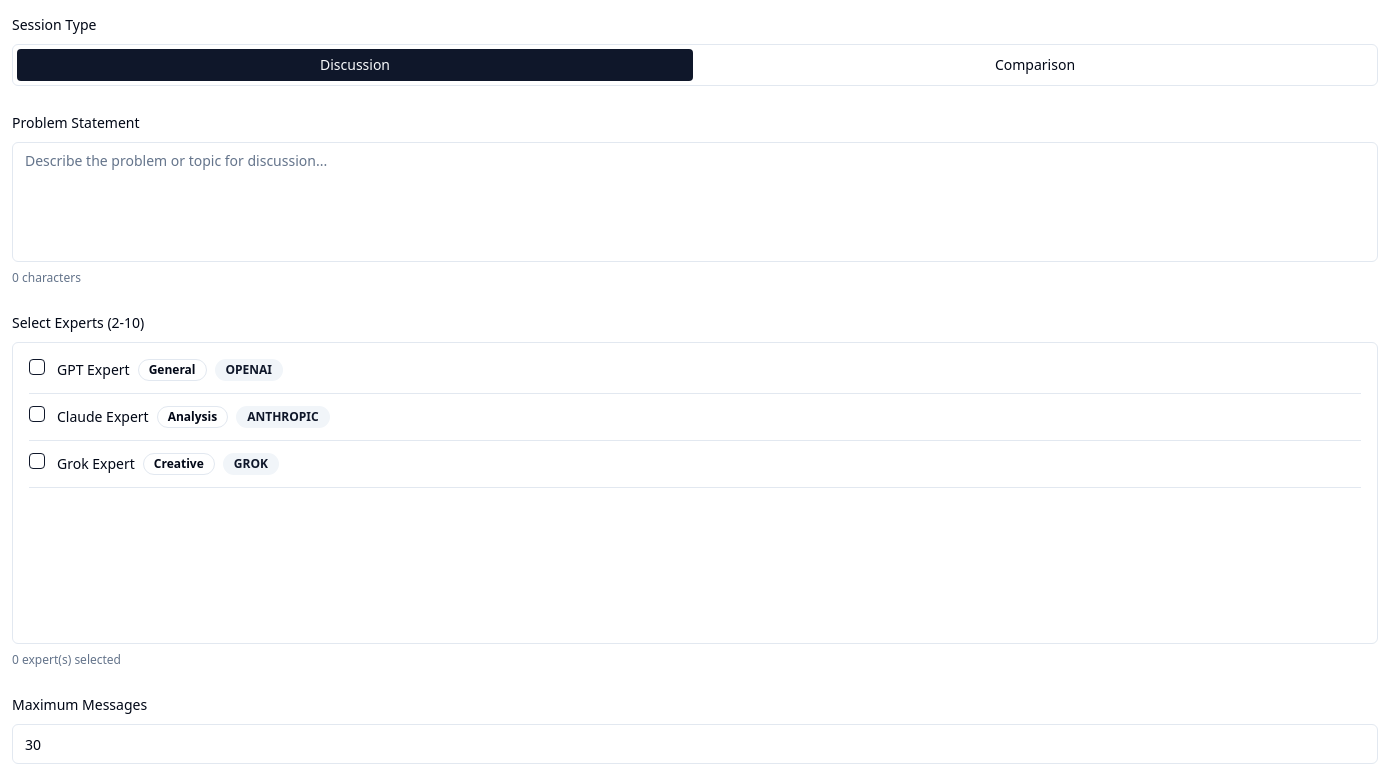
Test case: SessionForm — comparison mode type selector › should show maxMessages field when switching back to Discussion mode
The image size is (1390, 772).
// Switch to Comparison
Click the button "Comparison" at (1035, 65), box [697, 49, 1373, 81]
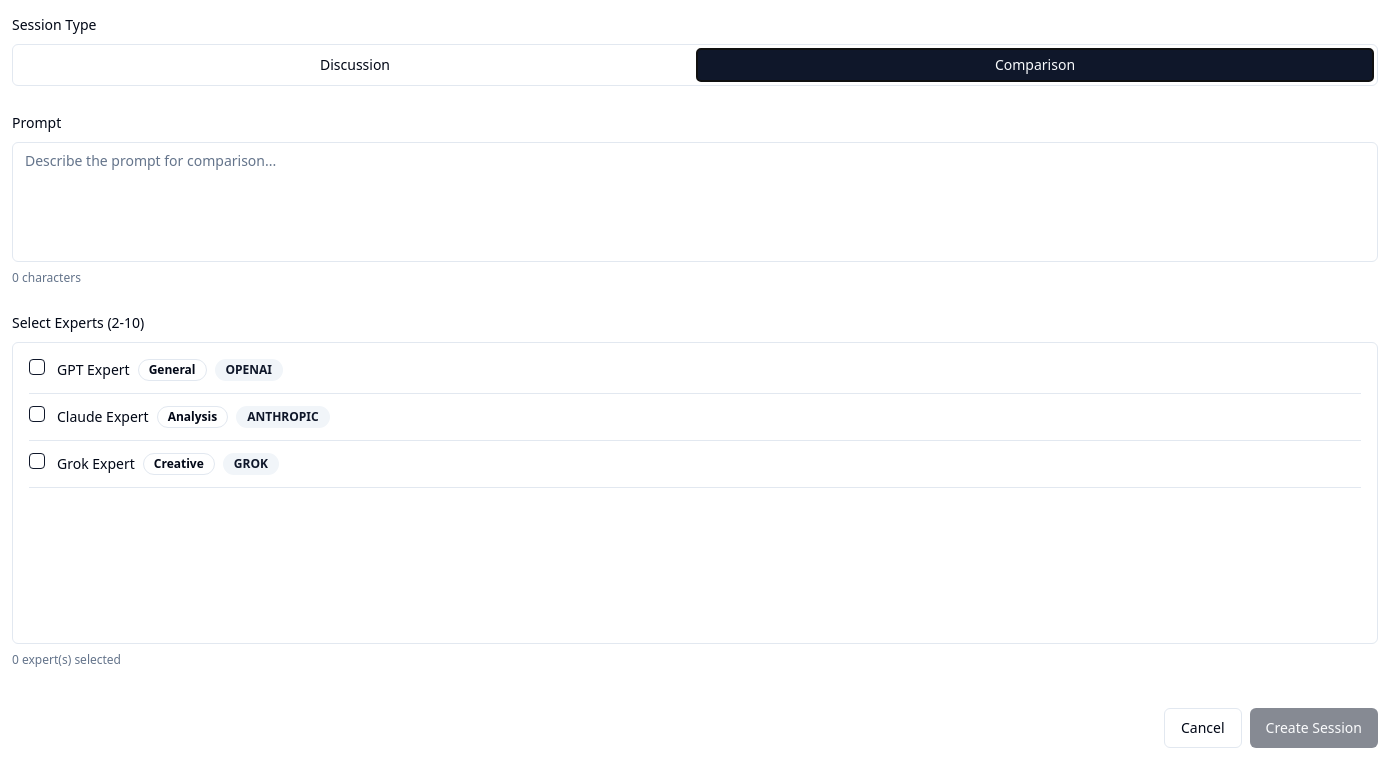
Expected: the label labelled "Maximum Messages" is gone
// Switch back to Discussion
Click the button "Discussion" at (355, 65), box [17, 49, 693, 81]
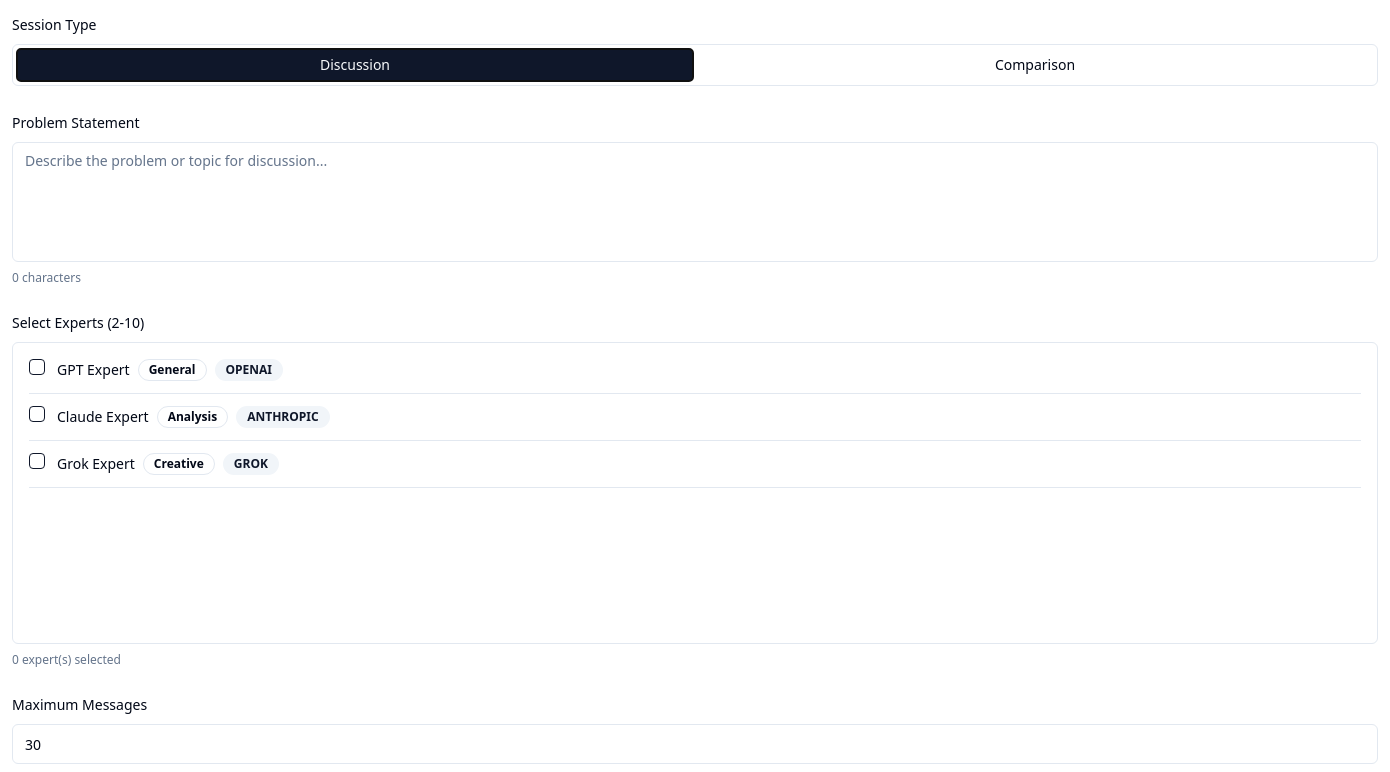
Expected: the number field labelled "Maximum Messages" is shown, [12, 724, 1378, 764]
